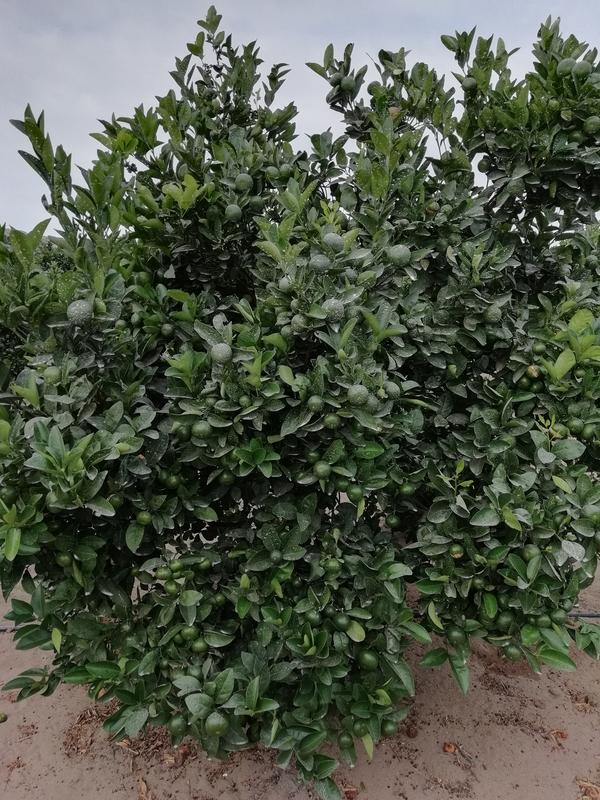mandarina verde: (204, 710, 232, 738), (69, 300, 93, 325), (321, 298, 345, 323), (386, 244, 411, 267), (210, 342, 233, 364), (445, 625, 467, 647), (347, 385, 371, 405), (358, 648, 378, 671), (322, 233, 345, 252), (190, 420, 214, 438), (497, 611, 516, 632), (309, 256, 331, 274), (314, 460, 332, 481), (224, 203, 243, 222), (168, 717, 188, 735), (235, 174, 255, 192), (572, 60, 592, 78), (381, 719, 399, 738), (306, 394, 325, 412), (42, 366, 62, 383), (582, 116, 600, 134), (334, 612, 351, 631), (336, 733, 354, 750), (305, 609, 322, 627), (486, 306, 502, 325), (347, 484, 364, 501), (353, 720, 369, 738), (325, 558, 343, 574), (339, 75, 357, 91), (324, 414, 341, 430), (551, 610, 568, 626), (160, 321, 176, 338), (292, 314, 308, 331), (165, 474, 181, 490), (385, 383, 401, 399), (182, 626, 199, 641), (447, 544, 464, 559), (264, 165, 279, 182), (504, 645, 523, 658), (137, 511, 153, 526), (401, 481, 417, 496), (461, 77, 477, 92), (570, 419, 585, 435), (558, 59, 572, 76), (281, 162, 294, 180), (56, 553, 72, 567), (192, 640, 208, 654), (157, 567, 173, 581), (537, 613, 551, 629), (585, 254, 599, 270), (239, 394, 252, 410), (214, 592, 226, 609), (128, 312, 142, 326), (270, 549, 283, 564), (533, 343, 547, 356)
